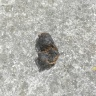Dog: (35, 33, 61, 68)
